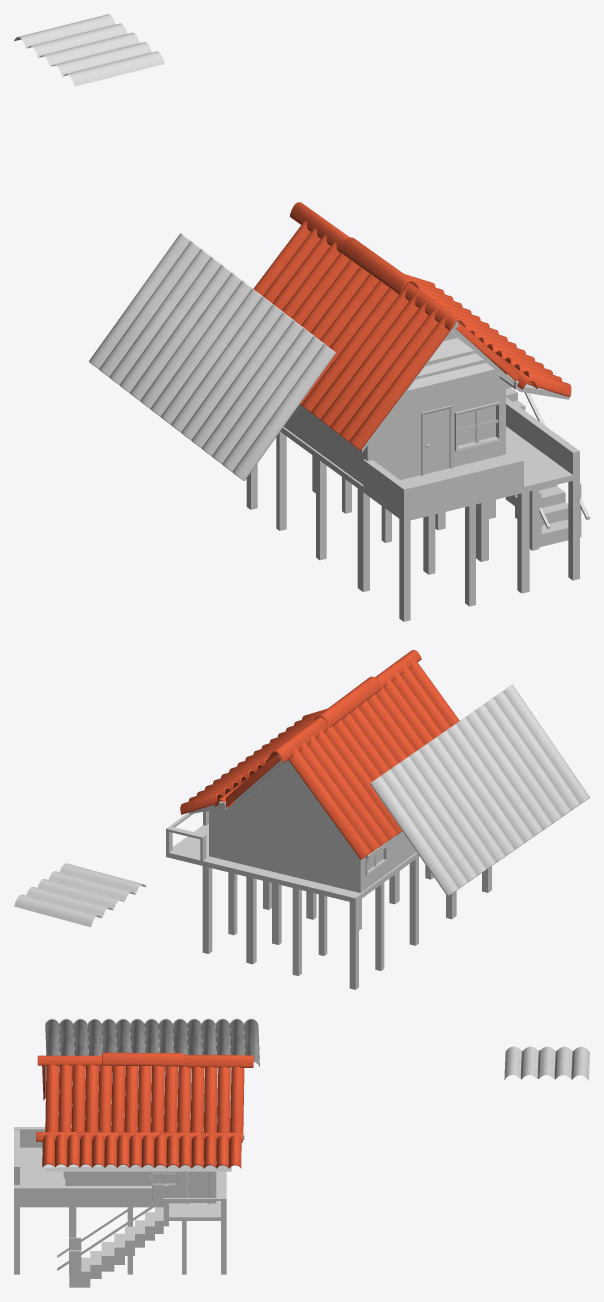
The model's file is CasaooJu.fbx.
3 views of the same model, one above another, from view 1: azimuth 30°, elevation 25°; view 2: azimuth 150°, elevation 25°; view 3: azimuth 270°, elevation 25° (orthographic). The views are drawn at different scales.
Visible parts, largest first — view 1: Cilindro.005, Cubo.001, Cilindro.006, casa, Cilindro, Cilindro.008, Cilindro.001, porta2, telhado, Cilindro.007, vidro, Cilindro.002; view 2: Cilindro.005, Cilindro.006, casa, Cubo.001, Cilindro, Cilindro.008, Cilindro.001, Cilindro.007, telhado, Cilindro.004, Cilindro.002; view 3: Cilindro.004, Cubo.001, Cilindro.005, Cilindro.008, Cilindro, casa, telhado, Cilindro.001, Cilindro.003, Cilindro.007, Cilindro.002, porta2.001.
Part boxes in pixels (x1=…): Cilindro.005: x1=89, y1=233, x2=335, y2=480; Cubo.001: x1=246, y1=383, x2=589, y2=621; Cilindro.006: x1=253, y1=221, x2=455, y2=450; casa: x1=283, y1=332, x2=505, y2=484; Cilindro: x1=14, y1=14, x2=164, y2=86; Cilindro.008: x1=404, y1=274, x2=571, y2=397; Cilindro.001: x1=340, y1=237, x2=419, y2=294; porta2: x1=424, y1=409, x2=449, y2=473; telhado: x1=298, y1=328, x2=569, y2=452; Cilindro.007: x1=290, y1=202, x2=349, y2=252; vidro: x1=457, y1=406, x2=495, y2=445; Cilindro.002: x1=402, y1=282, x2=465, y2=330; Cilindro.005: x1=370, y1=684, x2=589, y2=896; Cilindro.006: x1=288, y1=656, x2=459, y2=859; casa: x1=209, y1=760, x2=416, y2=892; Cubo.001: x1=166, y1=811, x2=491, y2=989; Cilindro: x1=14, y1=863, x2=146, y2=927; Cilindro.008: x1=180, y1=708, x2=327, y2=814; Cilindro.001: x1=314, y1=676, x2=381, y2=727; Cilindro.007: x1=268, y1=717, x2=327, y2=763; telhado: x1=188, y1=759, x2=404, y2=860; Cilindro.004: x1=225, y1=754, x2=281, y2=807; Cilindro.002: x1=375, y1=650, x2=421, y2=687; Cilindro.004: x1=45, y1=1064, x2=244, y2=1132; Cubo.001: x1=14, y1=1127, x2=226, y2=1287; Cilindro.005: x1=45, y1=1018, x2=259, y2=1066; Cilindro.008: x1=42, y1=1134, x2=241, y2=1168; Cilindro: x1=504, y1=1046, x2=589, y2=1080; casa: x1=65, y1=1171, x2=216, y2=1203; telhado: x1=45, y1=1066, x2=231, y2=1171; Cilindro.001: x1=102, y1=1052, x2=183, y2=1066; Cilindro.003: x1=36, y1=1132, x2=242, y2=1142; Cilindro.007: x1=178, y1=1054, x2=253, y2=1067; Cilindro.002: x1=37, y1=1055, x2=102, y2=1065; porta2.001: x1=190, y1=1171, x2=206, y2=1202.
Size of the model in its own units: 1365 by 2805 by 1008.
